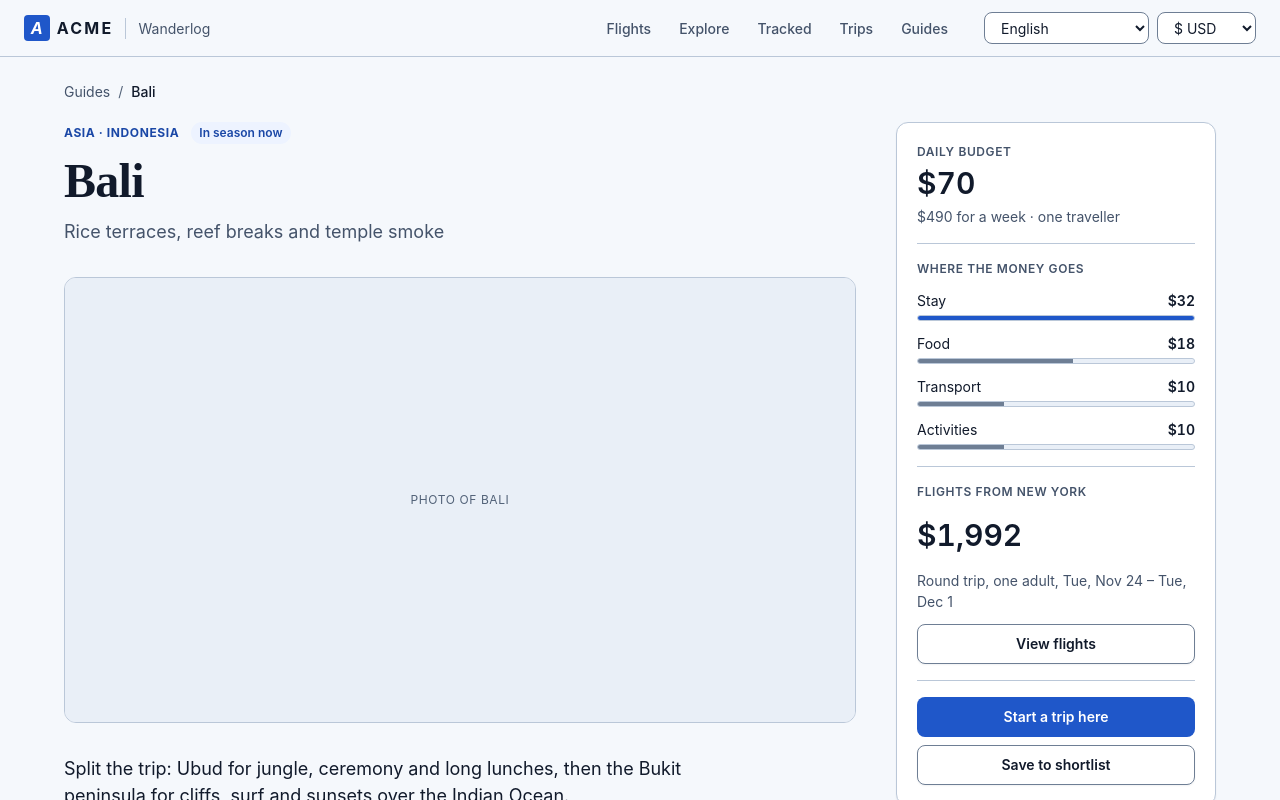
Test: Wanderlog › saves a destination to the shortlist
Click the button "Save to shortlist" at point(1056, 765), box x1=917 y1=745 x2=1195 y2=785
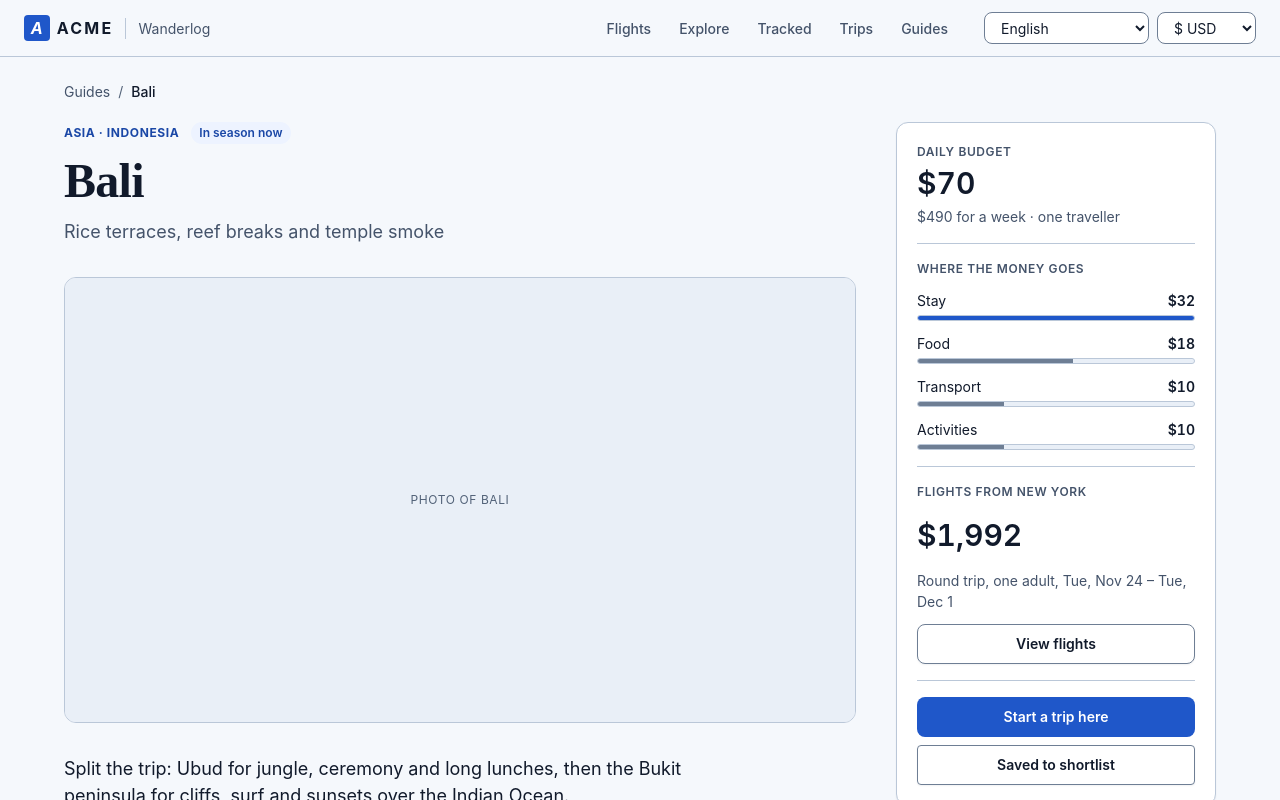
Expected: the button "Saved to shortlist" is shown, x1=917 y1=745 x2=1195 y2=785
Scroll
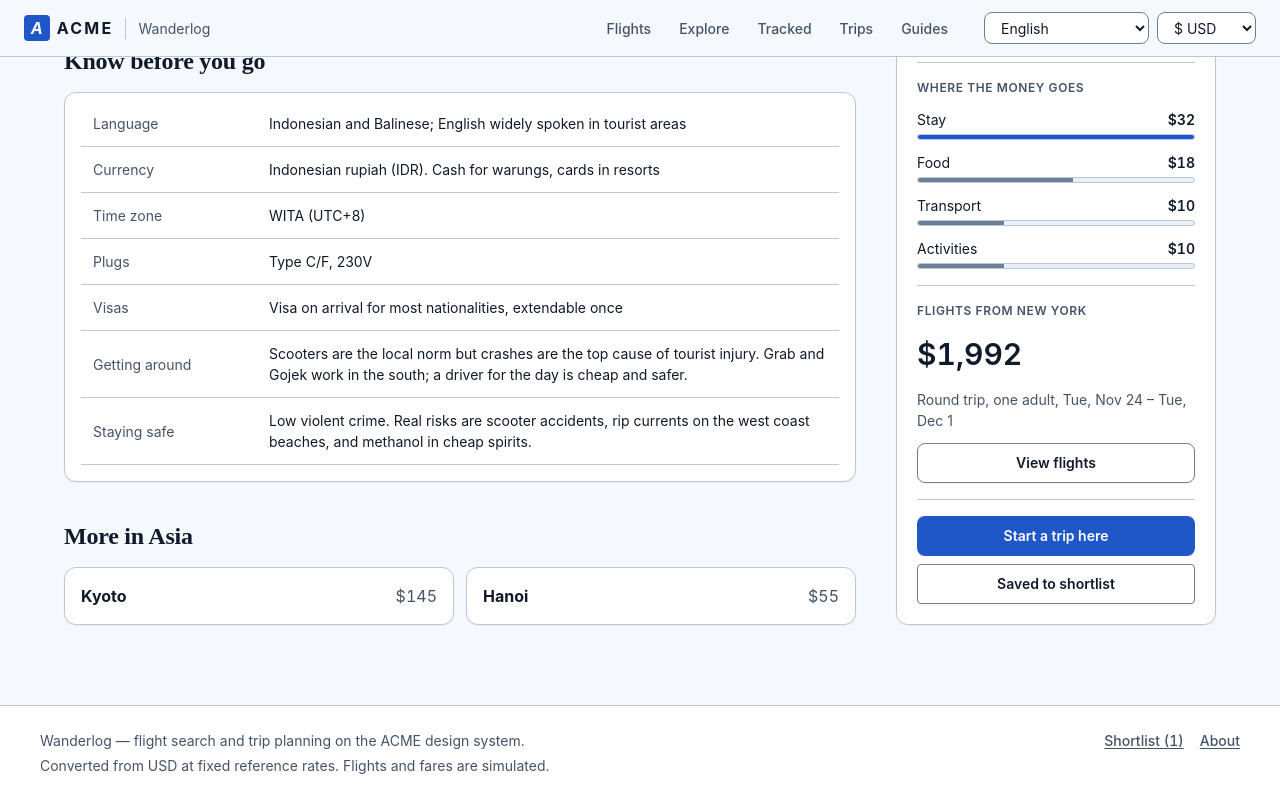
Click the link "Shortlist (1)" at point(1144, 741), box x1=1104 y1=732 x2=1184 y2=749
(page scrolled)
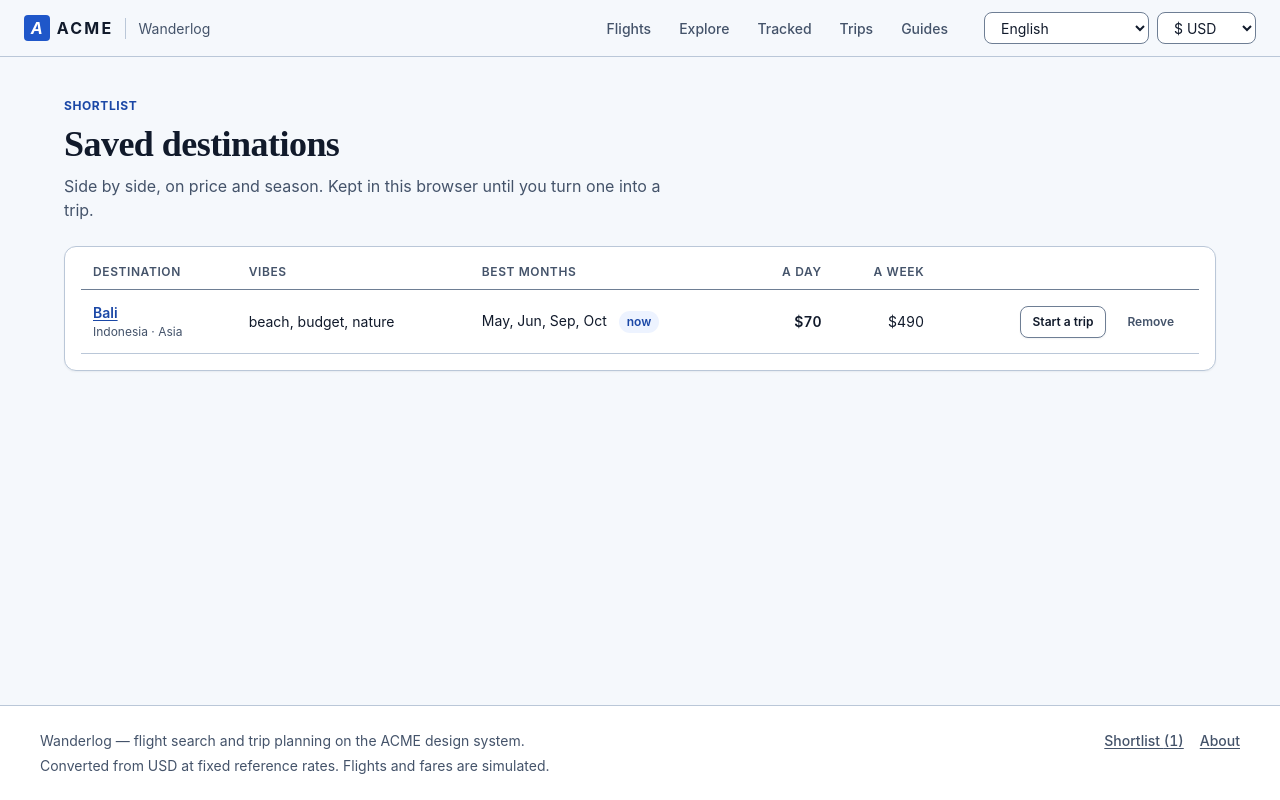
Expected: the text "Bali" is shown, x1=93 y1=304 x2=118 y2=321
Click the button with class "wish" at point(1151, 322), box x1=1114 y1=306 x2=1187 y2=338
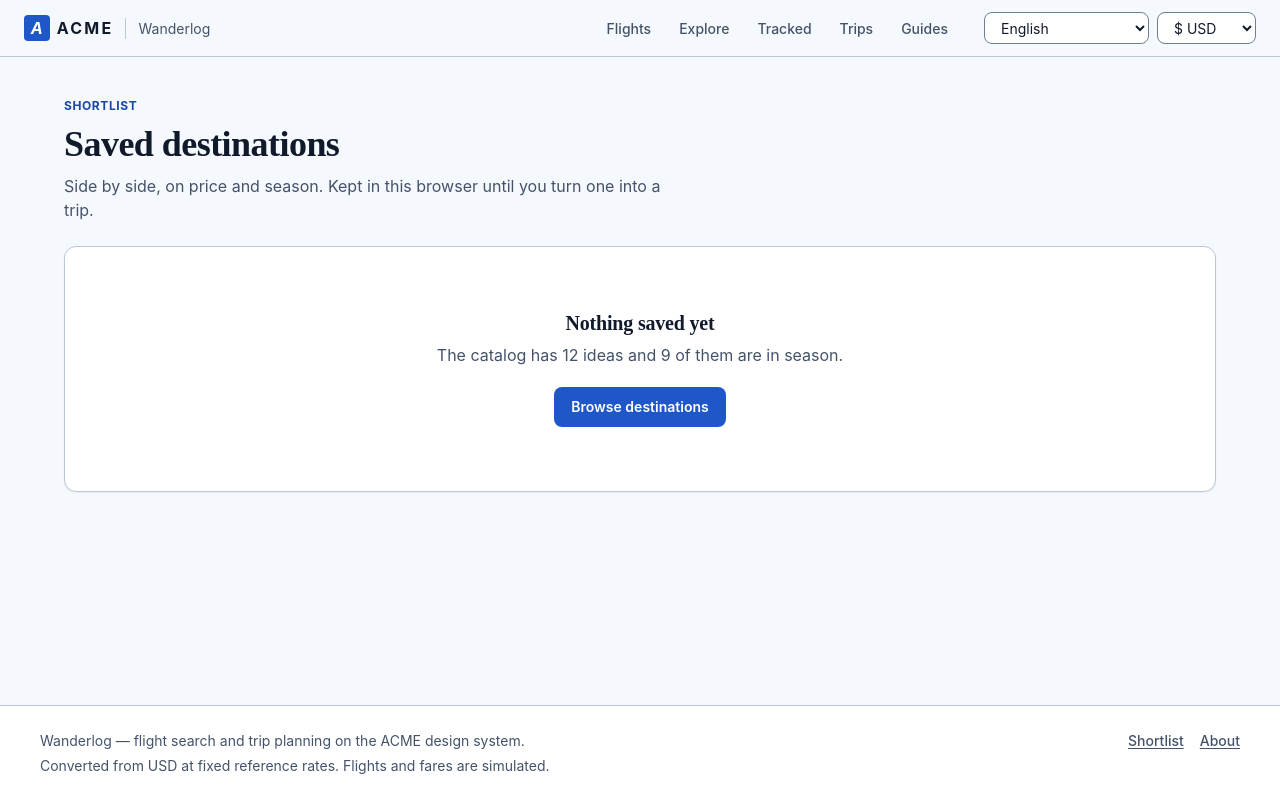
Expected: the heading "Nothing saved yet" is shown, x1=566 y1=311 x2=714 y2=335
